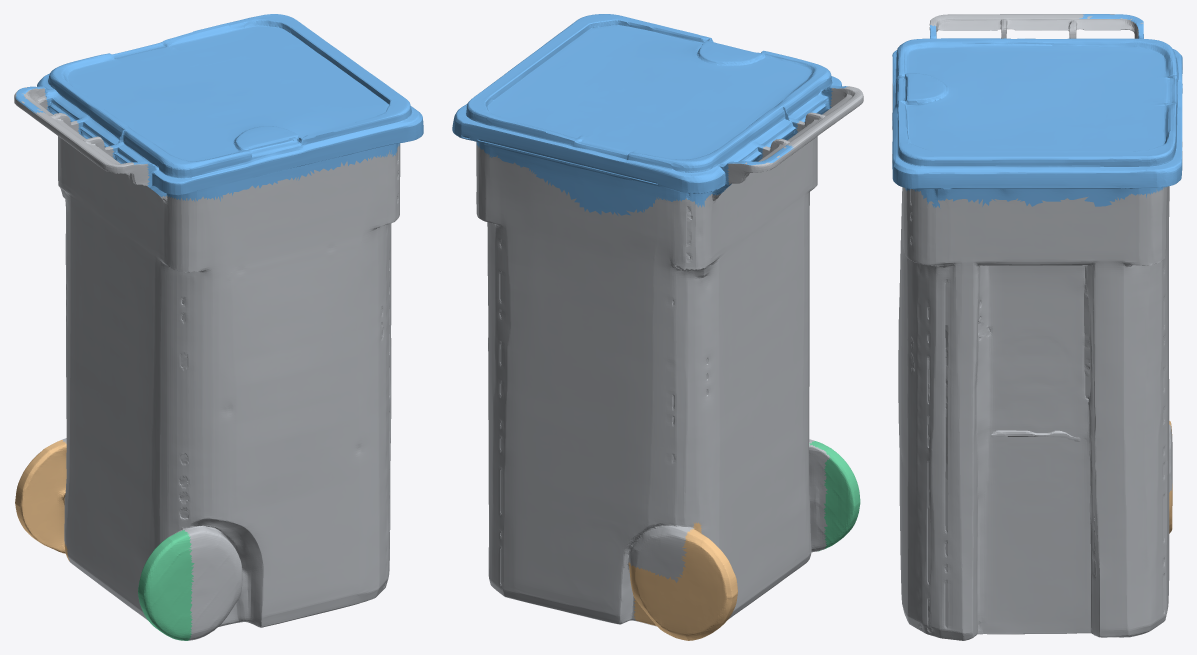
File: parts.glb
3 renders of one model, left to right at view 1: azimuth 30°, elevation 25°; view 2: azimuth 150°, elevation 25°; view 3: azimuth 270°, elevation 25°, orthographic.
Visible parts, largest first — view 1: visual_0_0, visual_1_0, visual_3_0, visual_2_0; view 2: visual_0_0, visual_1_0, visual_2_0, visual_3_0; view 3: visual_0_0, visual_1_0.
Part boxes in pixels (x1,y1,x2,y2): visual_0_0: (14,87,400,640); visual_1_0: (15,14,423,201); visual_3_0: (138,530,194,640); visual_2_0: (15,440,69,560); visual_0_0: (476,86,863,626); visual_1_0: (452,14,847,215); visual_2_0: (628,522,737,640); visual_3_0: (809,441,860,551); visual_0_0: (898,14,1172,640); visual_1_0: (892,14,1182,208).
Bounding box in the file's own units: 0.6312 × 0.965 × 0.5193.
